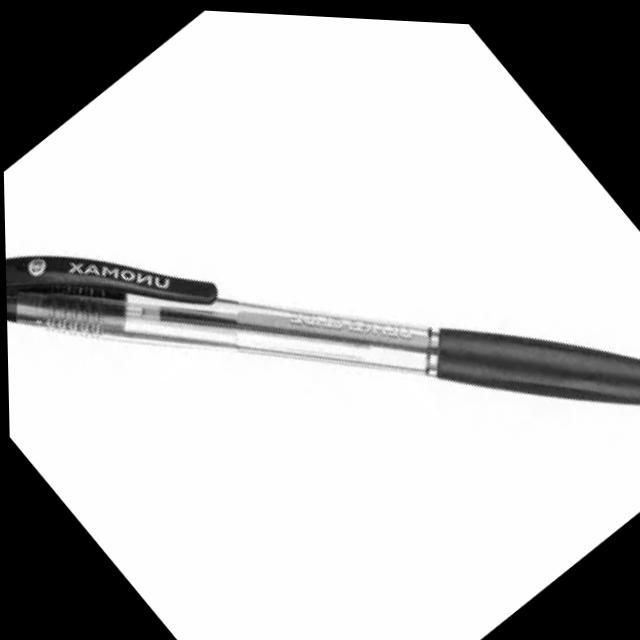pencil: (2, 230, 640, 454)
